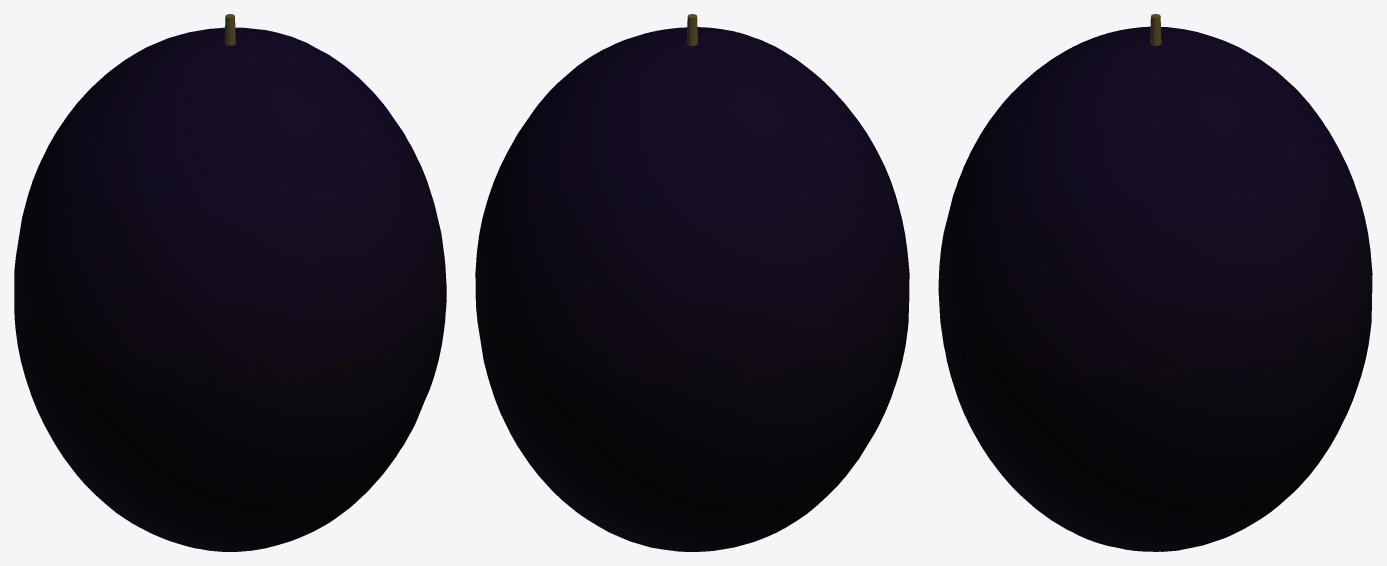
File: raisin-noir.glb
3 renders of one model, left to right at view 1: azimuth 30°, elevation 25°; view 2: azimuth 150°, elevation 25°; view 3: azimuth 270°, elevation 25°, orthographic.
Parts seen in each view (by area): view 1: moitie_B_peau, entier_peau, moitie_A_peau; view 2: moitie_A_peau, entier_peau, moitie_B_peau; view 3: entier_peau, moitie_A_peau, moitie_B_peau.
Boxes of the visible parts, x1,y1,x2,y2 form: moitie_B_peau: (42, 39, 445, 551); entier_peau: (14, 27, 446, 551); moitie_A_peau: (14, 27, 321, 503); moitie_A_peau: (475, 39, 880, 551); entier_peau: (475, 27, 909, 551); moitie_B_peau: (591, 27, 909, 496); entier_peau: (938, 26, 1372, 551); moitie_A_peau: (1155, 29, 1371, 551); moitie_B_peau: (938, 27, 1155, 551).
Size of the model in its own units: 1.44 by 1.9 by 1.44.
